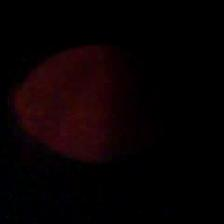fertile: (14, 41, 178, 164)
